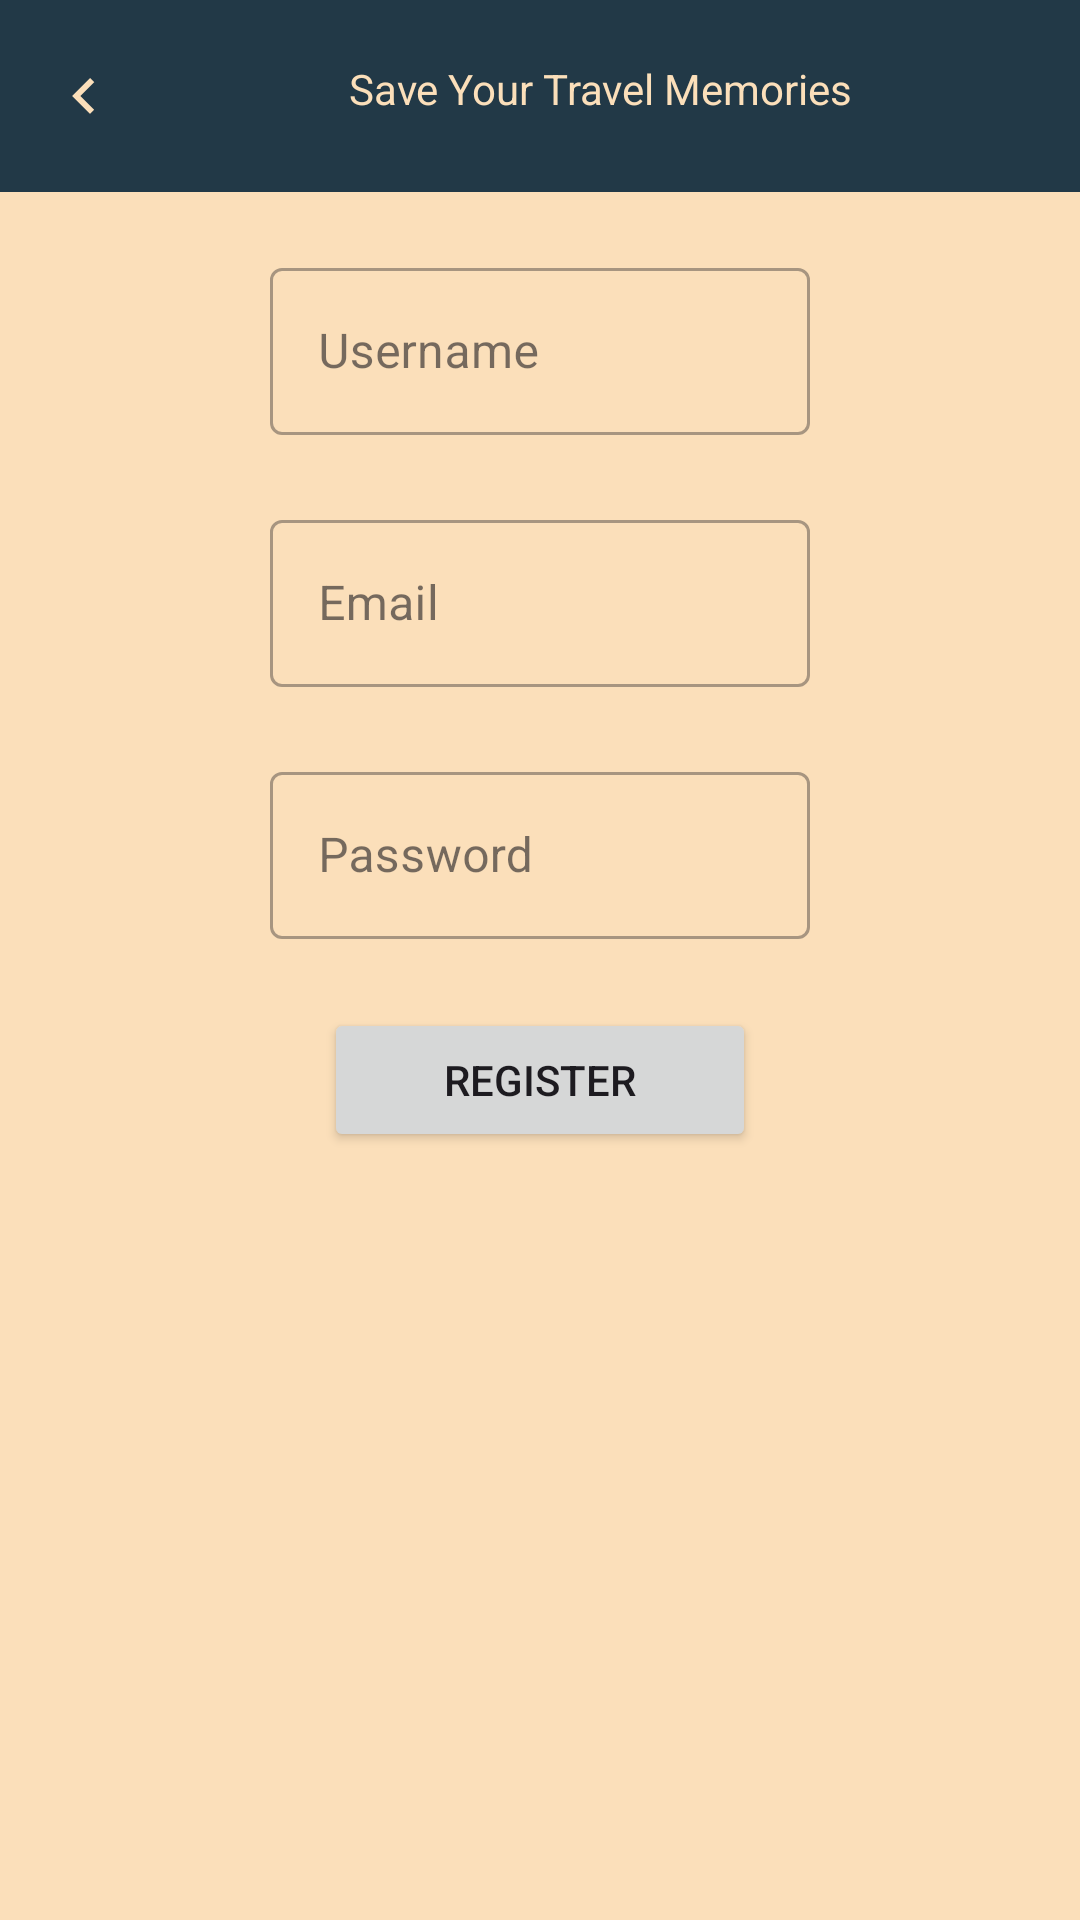

Named icons in this screenshot (1080px×1920px) and their bounding boxes, (x1, y1, x2, y2):
keyboard arrow left: (72, 78, 94, 114)
